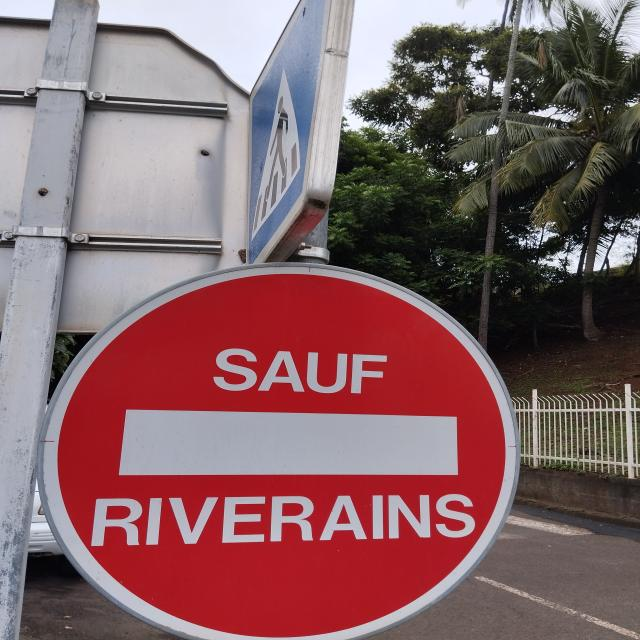Passage-pieton: (240, 0, 343, 268)
